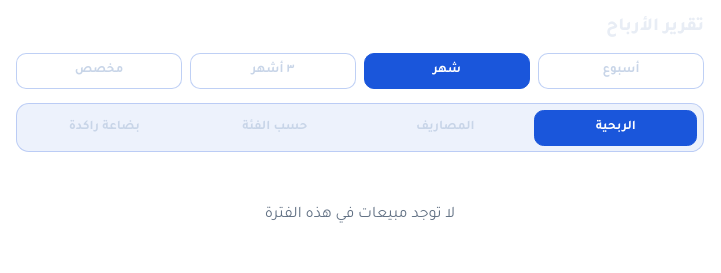
ReportsPage › rejects an inverted custom range (start > end) without querying
This screenshot has width=721, height=273.
Click the button with test id "period-custom" at (99, 71), box x1=16 y1=53 x2=182 y2=89
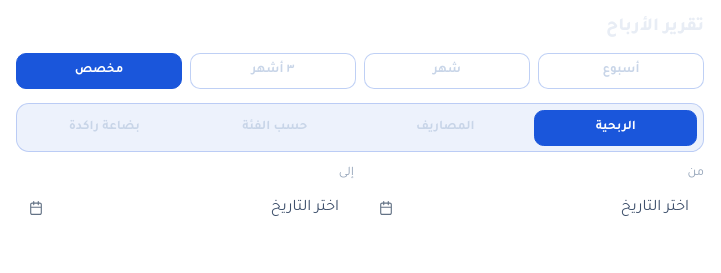
Type "2026-06-30" into the dropdown with id "reports-custom-start" at (535, 208), box x1=366 y1=188 x2=704 y2=228
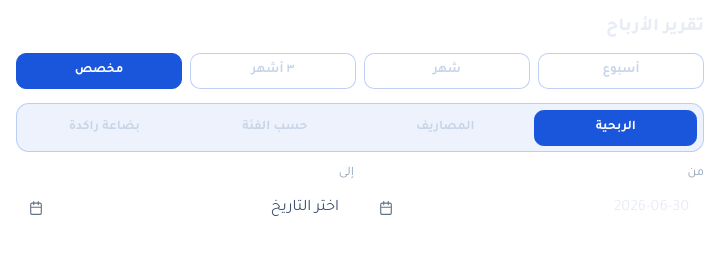
Type "2026-06-01" into the dropdown with id "reports-custom-end" at (185, 208), box x1=16 y1=188 x2=354 y2=228
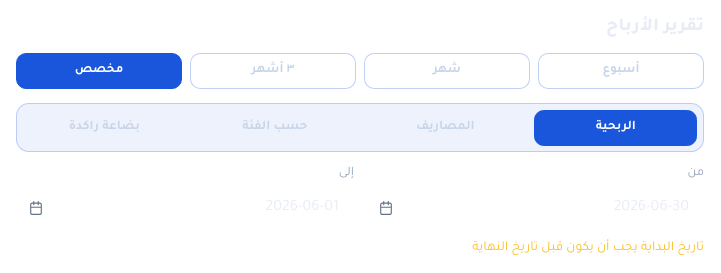
Result: the text "تاريخ البداية يجب أن يكون قبل تاريخ النهاية" is shown at x1=472 y1=241 x2=704 y2=255
